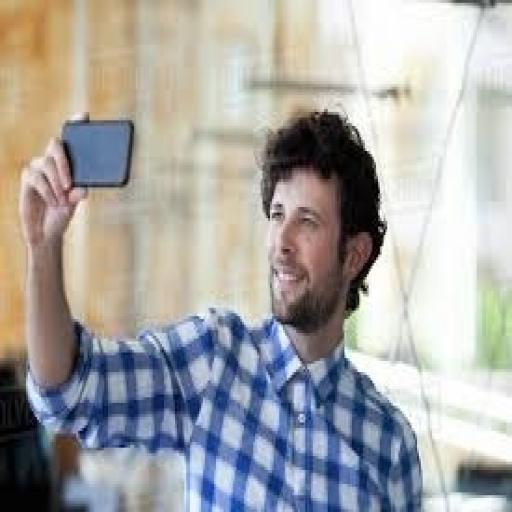texting: (17, 101, 424, 509)
